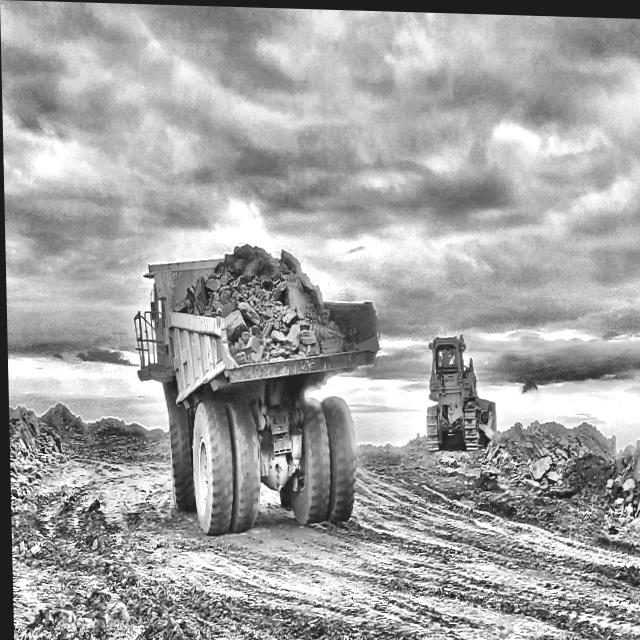buldozerpayloadergrader: (425, 335, 495, 446)
dump_truck: (136, 246, 376, 534), (189, 369, 191, 373)
